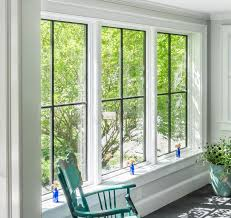Window: (40, 23, 88, 196), (102, 30, 148, 176), (156, 35, 189, 158)
